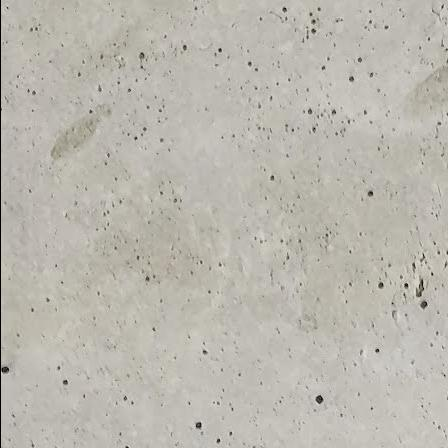spalling: (411, 275, 426, 304)
